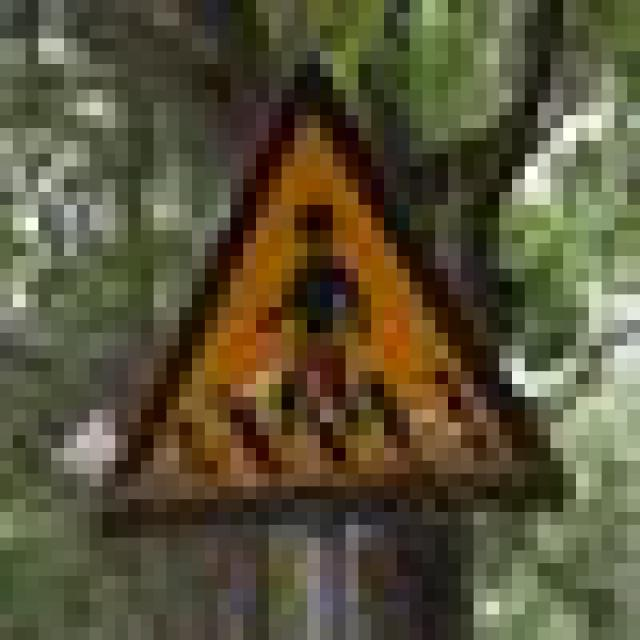PEDESTRIAN_CROSSING: (64, 38, 576, 525)
